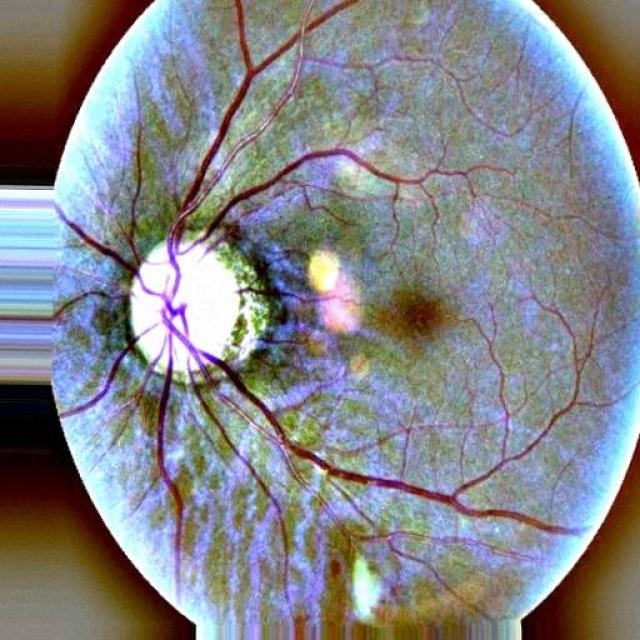Macula: (395, 294, 445, 336)
Nerves: (55, 0, 615, 575)
Optic Disk: (130, 241, 239, 372)
